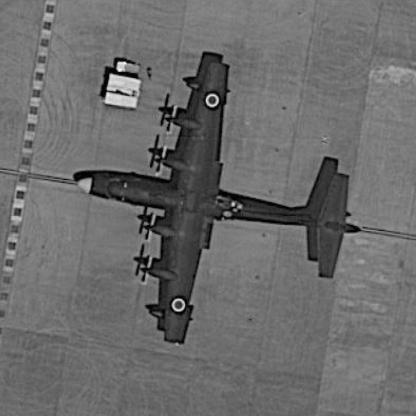US2: (78, 62, 364, 347)
